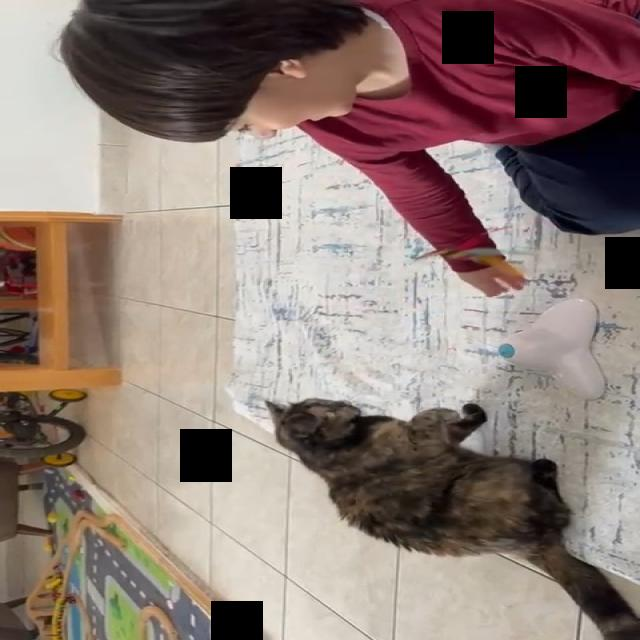authorized: (262, 397, 638, 639)
